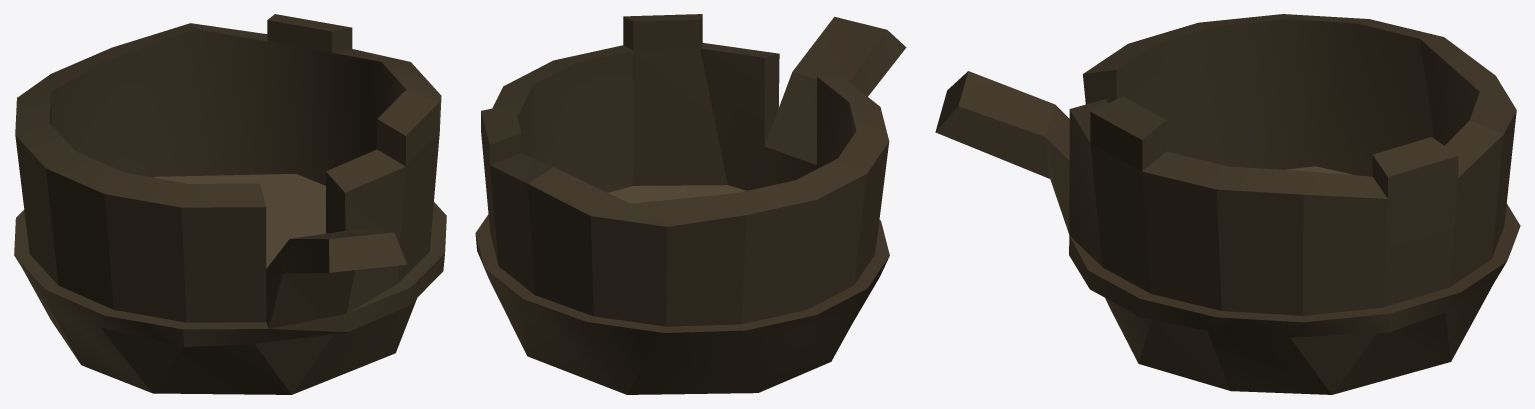
The model's file is EA03_Prop_Container_Bowl_01.glb.
3 views of the same model, side by side, from view 1: azimuth 30°, elevation 25°; view 2: azimuth 150°, elevation 25°; view 3: azimuth 270°, elevation 25° (orthographic). The views are drawn at different scales.
Parts seen in each view (by area): view 1: EA03_Prop_Container_Bowl_01; view 2: EA03_Prop_Container_Bowl_01; view 3: EA03_Prop_Container_Bowl_01.
Part boxes in pixels (x1,y1,x2,y2): EA03_Prop_Container_Bowl_01: [14, 14, 446, 394]; EA03_Prop_Container_Bowl_01: [475, 14, 906, 394]; EA03_Prop_Container_Bowl_01: [935, 14, 1520, 394].
Bounding box in the file's own units: 0.5286 × 0.3348 × 0.6817.
1 material, 1 textured.
